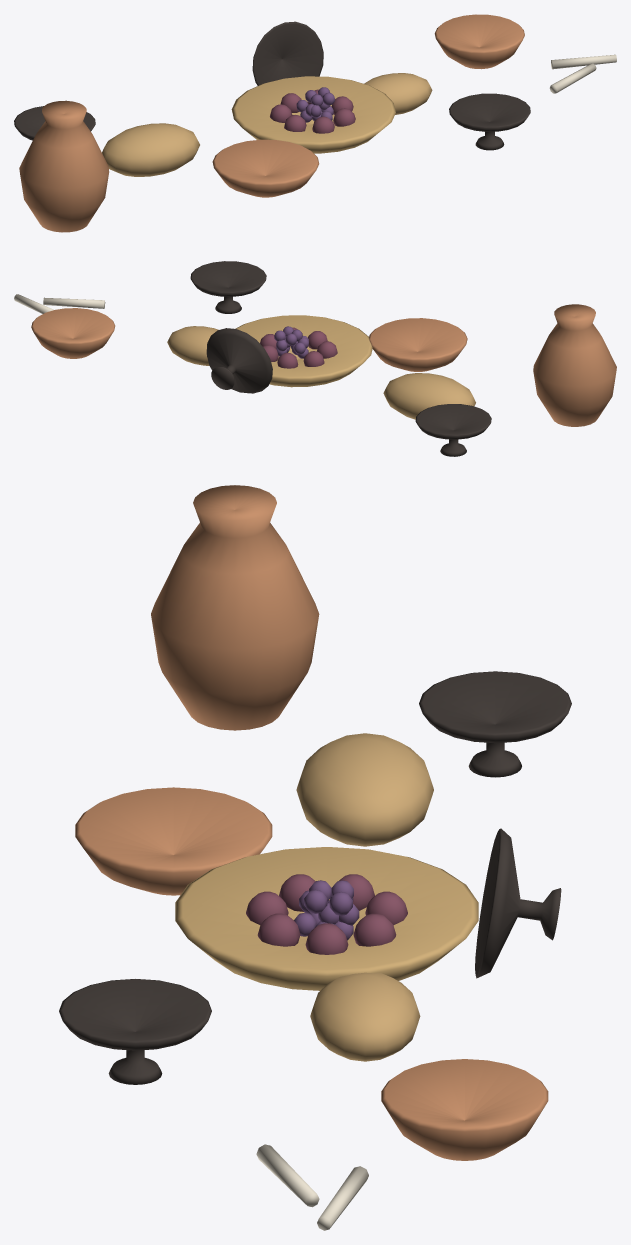
File: tableware.glb
The picture shows the model from 3 angles, top to bottom: view 1: azimuth 30°, elevation 25°; view 2: azimuth 150°, elevation 25°; view 3: azimuth 270°, elevation 25°; orthographic projection. The views are drawn at different scales.
Visible parts, largest first — view 1: bowls, cups, platter, bread, figs, bones, grapes; view 2: bowls, cups, platter, bread, figs, bones, grapes; view 3: bowls, cups, platter, bread, figs, grapes, bones.
Boxes of the visible parts, x1=… form: bowls: x1=19, y1=14, x2=524, y2=232; cups: x1=14, y1=21, x2=530, y2=150; platter: x1=231, y1=76, x2=395, y2=153; bread: x1=102, y1=73, x2=432, y2=176; figs: x1=270, y1=89, x2=355, y2=133; bones: x1=549, y1=54, x2=616, y2=93; grapes: x1=296, y1=87, x2=334, y2=122; bowls: x1=31, y1=304, x2=616, y2=426; cups: x1=190, y1=261, x2=491, y2=456; platter: x1=235, y1=315, x2=372, y2=387; bread: x1=167, y1=326, x2=475, y2=419; figs: x1=260, y1=327, x2=337, y2=368; bones: x1=14, y1=294, x2=105, y2=313; grapes: x1=274, y1=326, x2=308, y2=358; bowls: x1=75, y1=485, x2=548, y2=1160; cups: x1=59, y1=671, x2=571, y2=1084; platter: x1=175, y1=847, x2=478, y2=990; bread: x1=296, y1=733, x2=433, y2=1061; figs: x1=246, y1=874, x2=407, y2=954; grapes: x1=294, y1=880, x2=359, y2=940; bones: x1=256, y1=1144, x2=368, y2=1230.
Size of the model in its own units: 1.73 by 0.31 by 0.67.
